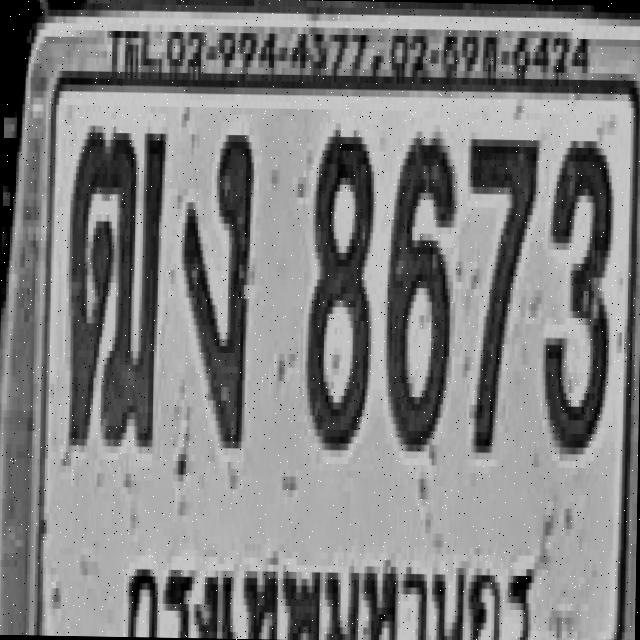16NgorNgu: (178, 127, 254, 448)
27ThorPhuThao: (65, 122, 166, 450)
3: (540, 133, 614, 454)
6: (384, 130, 456, 452)
7: (462, 132, 538, 453)
8: (304, 130, 374, 450)
